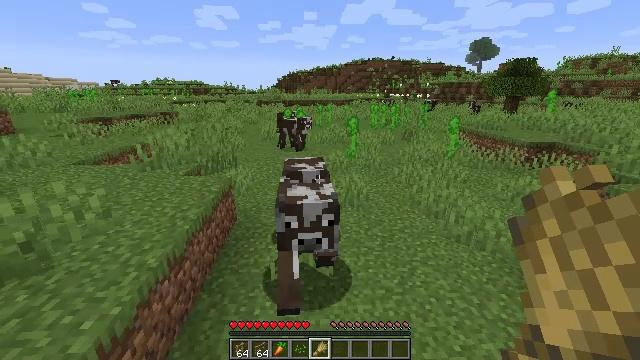cow: (275, 157, 341, 315), (280, 115, 312, 145), (421, 100, 435, 112), (468, 102, 481, 114)
